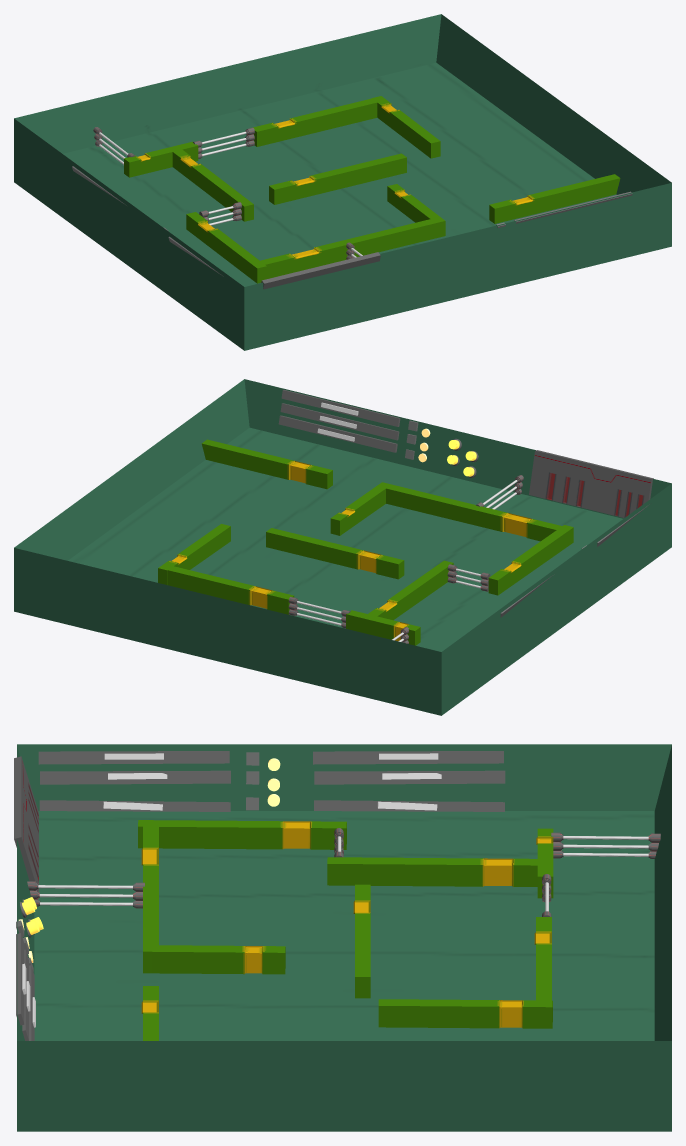
The model's file is Levellayoutlevel3.fbx.
The picture shows the model from 3 angles, top to bottom: view 1: azimuth 30°, elevation 25°; view 2: azimuth 150°, elevation 25°; view 3: azimuth 270°, elevation 25°; orthographic projection. The views are drawn at different scales.
Visible parts, largest first — view 1: Level3base, Cube.079, Cube.035, Cube.033, Cube.031, Cube.034, Cube.028, Cube.029, Cube.030, Cube.052, Cube.027, Cube.016; view 2: Level3base, Cube.052, Cube.079, Cube.035, Cube.033, Cube.031, Cube.034, Cube.028, Cube.029, Cube.030, Cube.027, Cube.048 (+2 smaller); view 3: Level3base, Cube.028, Cube.034, Cube.029, Cube.027, Cube.052, Cube.081, Cube.057, Cube.058, Cube.080, Cube.079, Cube.035 (+6 smaller).
Boxes of the visible parts, x1,y1,x2,y2 form: Level3base: (14,14,671,350); Cube.079: (260,218,445,278); Cube.035: (269,153,406,204); Cube.033: (489,174,620,223); Cube.031: (253,97,381,146); Cube.034: (186,212,266,283); Cube.028: (172,146,253,221); Cube.029: (372,96,440,158); Cube.030: (124,141,198,177); Cube.052: (261,252,380,289); Cube.027: (387,184,441,222); Cube.016: (514,191,632,223); Level3base: (14,379,671,715); Cube.052: (529,450,653,517); Cube.079: (379,482,561,541); Cube.035: (266,528,404,579); Cube.033: (201,439,332,489); Cube.031: (163,565,294,614); Cube.034: (488,525,573,595); Cube.028: (363,560,453,620); Cube.029: (158,524,230,585); Cube.030: (346,610,420,645); Cube.027: (330,484,385,535); Cube.048: (278,415,397,452); Level3base: (17,744,671,1131); Cube.028: (327,857,551,886); Cube.034: (138,820,346,849); Cube.029: (378,999,552,1028); Cube.027: (152,945,285,974); Cube.052: (14,756,38,891); Cube.081: (314,770,505,784); Cube.057: (40,770,230,784); Cube.058: (38,751,229,764); Cube.080: (313,751,503,764); Cube.079: (141,826,158,973); Cube.035: (353,884,370,998).
Bounding box in the file's own units: 2463 × 355 × 2303.
